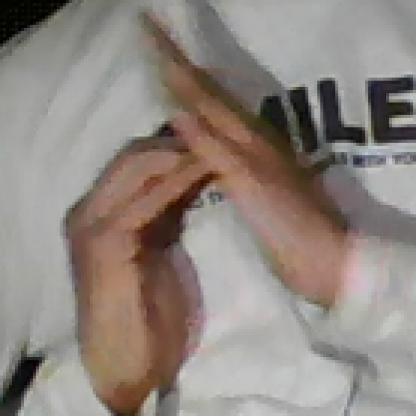Z: (68, 13, 314, 362)
